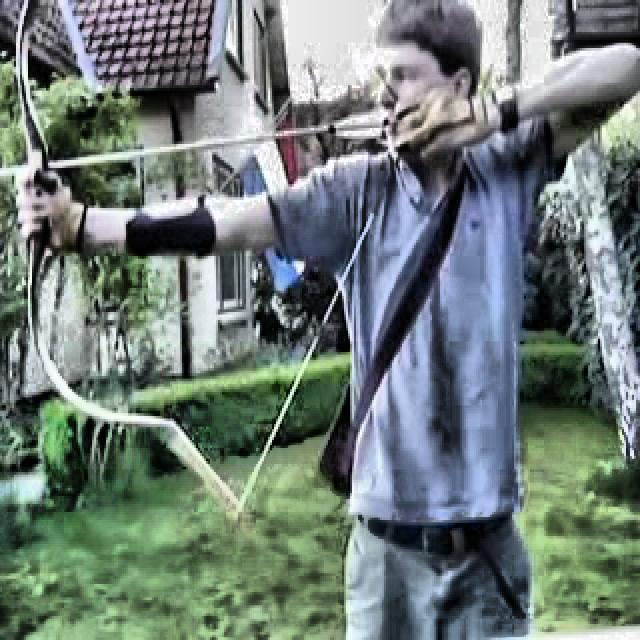P: (1, 9, 636, 638)
